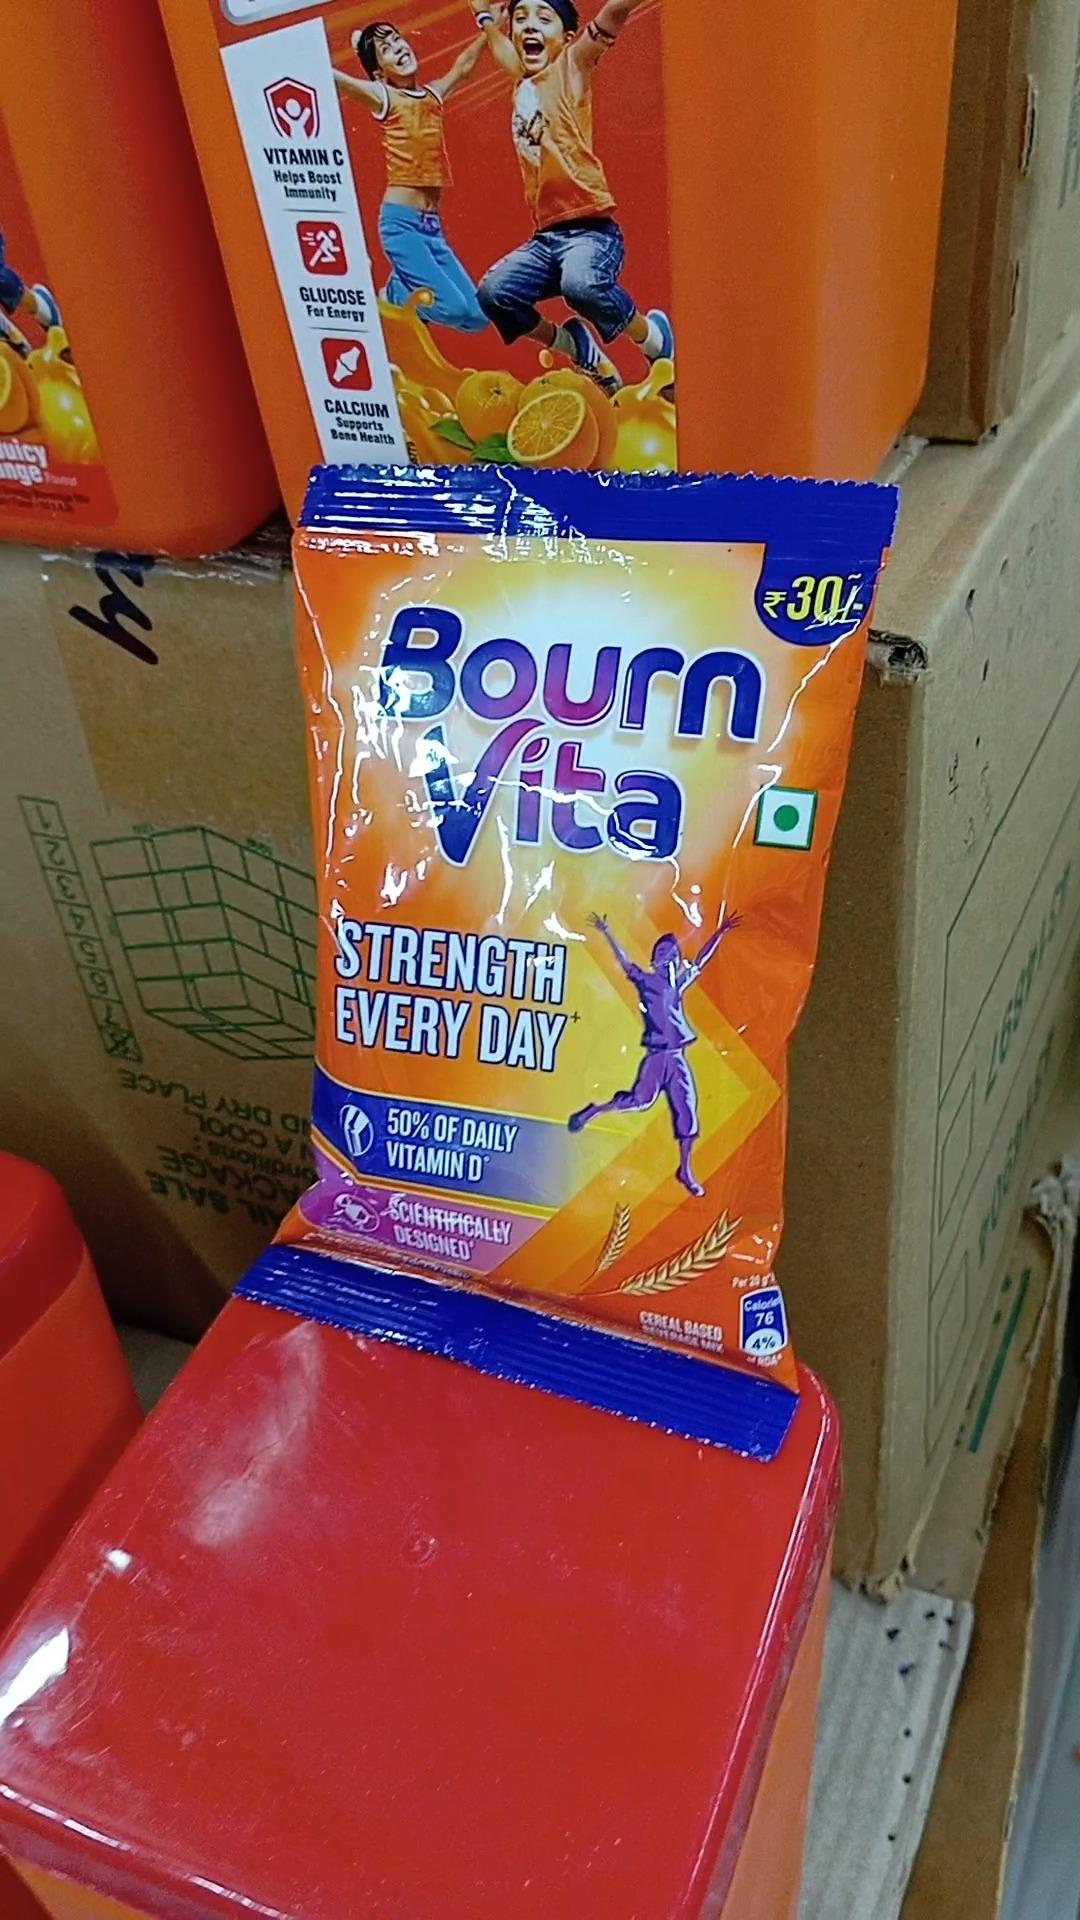BOURN_VITA_75_G_POUCH: (294, 456, 800, 1415)
